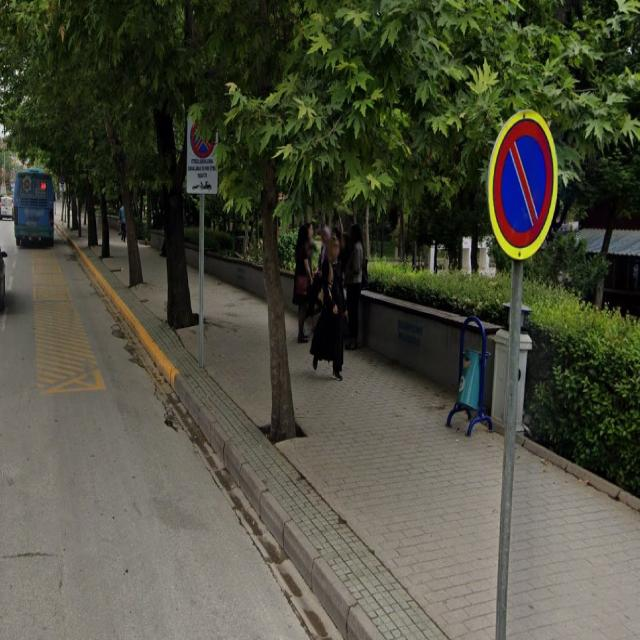parkyasak: (493, 118, 554, 249)
